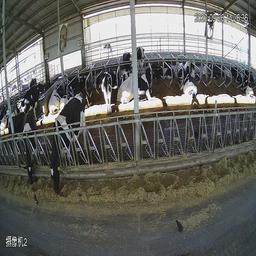cow: (44, 82, 88, 202), (18, 96, 39, 195), (14, 78, 46, 121), (175, 57, 200, 104), (97, 70, 118, 117), (46, 74, 68, 113), (139, 65, 159, 106), (234, 68, 255, 99), (117, 69, 133, 104), (206, 55, 226, 82), (160, 59, 175, 82), (137, 41, 147, 65)
